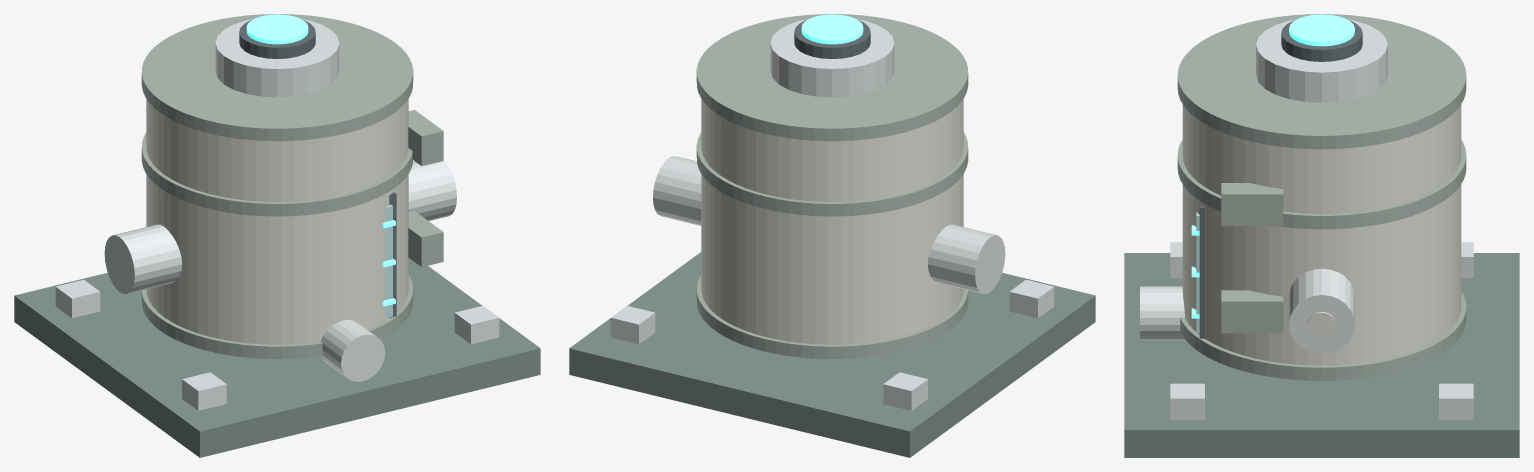
File: s7-i01-reservoir-lowprofile.glb
The picture shows the model from 3 angles, left to right: view 1: azimuth 30°, elevation 25°; view 2: azimuth 150°, elevation 25°; view 3: azimuth 270°, elevation 25°; orthographic projection. The views are drawn at different scales.
Visible parts, largest first — view 1: 005_sealed_cleanwater_tank_shell, 000_reinforced_industrial_base, 008_reinforcement_ring, 009_top_cleanable_fill_fitting, 007_reinforcement_ring, 018_water_return, 006_reinforcement_ring, 022_drain_valve, 017_water_outlet, 023_inspection_rail, 024_inspection_rail, 011_top_status_emitter (+5 smaller); view 2: 005_sealed_cleanwater_tank_shell, 000_reinforced_industrial_base, 008_reinforcement_ring, 009_top_cleanable_fill_fitting, 007_reinforcement_ring, 006_reinforcement_ring, 018_water_return, 017_water_outlet, 011_top_status_emitter, 002_mounting_foot, 003_mounting_foot, 010_fill_seal (+1 smaller); view 3: 005_sealed_cleanwater_tank_shell, 000_reinforced_industrial_base, 008_reinforcement_ring, 009_top_cleanable_fill_fitting, 006_reinforcement_ring, 017_water_outlet, 007_reinforcement_ring, 023_inspection_rail, 024_inspection_rail, 022_drain_valve, 011_top_status_emitter, 010_fill_seal (+7 smaller).
Part boxes in pixels (x1,y1,x2,y2): 005_sealed_cleanwater_tank_shell: [146, 99, 408, 344]; 000_reinforced_industrial_base: [14, 258, 540, 457]; 008_reinforcement_ring: [141, 14, 413, 141]; 009_top_cleanable_fill_fitting: [215, 19, 339, 97]; 007_reinforcement_ring: [141, 132, 412, 216]; 018_water_return: [104, 224, 182, 293]; 006_reinforcement_ring: [141, 275, 413, 359]; 022_drain_valve: [321, 319, 385, 381]; 017_water_outlet: [408, 160, 456, 220]; 023_inspection_rail: [408, 211, 443, 266]; 024_inspection_rail: [408, 110, 443, 165]; 011_top_status_emitter: [246, 14, 308, 44]; 005_sealed_cleanwater_tank_shell: [701, 99, 963, 344]; 000_reinforced_industrial_base: [569, 252, 1095, 457]; 008_reinforcement_ring: [696, 14, 968, 141]; 009_top_cleanable_fill_fitting: [770, 19, 894, 97]; 007_reinforcement_ring: [696, 132, 968, 216]; 006_reinforcement_ring: [696, 275, 968, 359]; 018_water_return: [927, 224, 1005, 293]; 017_water_outlet: [653, 156, 701, 225]; 011_top_status_emitter: [801, 14, 863, 44]; 002_mounting_foot: [1009, 280, 1054, 318]; 003_mounting_foot: [610, 305, 655, 344]; 010_fill_seal: [794, 19, 870, 58]; 005_sealed_cleanwater_tank_shell: [1182, 104, 1461, 365]; 000_reinforced_industrial_base: [1124, 253, 1519, 457]; 008_reinforcement_ring: [1177, 14, 1466, 149]; 009_top_cleanable_fill_fitting: [1256, 19, 1387, 102]; 006_reinforcement_ring: [1180, 291, 1466, 380]; 017_water_outlet: [1289, 268, 1354, 354]; 007_reinforcement_ring: [1177, 140, 1466, 229]; 023_inspection_rail: [1221, 290, 1283, 333]; 024_inspection_rail: [1221, 183, 1283, 225]; 022_drain_valve: [1140, 286, 1185, 340]; 011_top_status_emitter: [1289, 14, 1354, 46]; 010_fill_seal: [1281, 20, 1362, 61].
Size of the model in its own units: 1.08 by 0.972 by 1.02.
